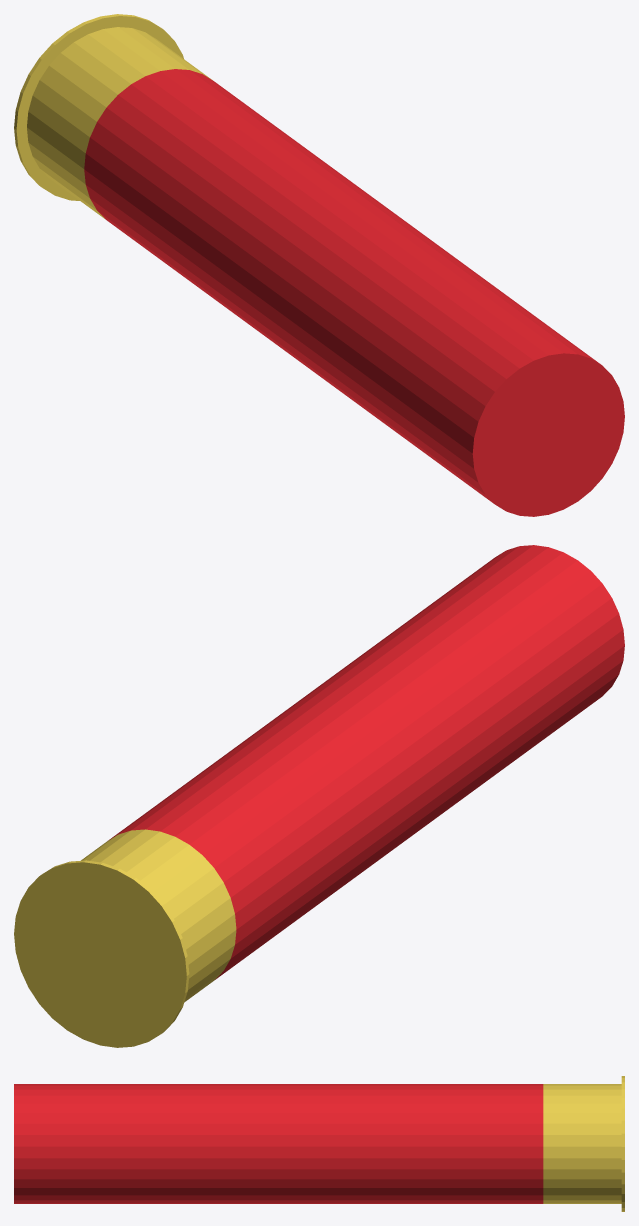
Rendered from Shotgun_shell.glb.
3 renders of one model, top to bottom at view 1: azimuth 30°, elevation 25°; view 2: azimuth 150°, elevation 25°; view 3: azimuth 270°, elevation 25°, orthographic. The views are drawn at different scales.
Parts seen in each view (by area): view 1: Cylinder; view 2: Cylinder; view 3: Cylinder.
Boxes of the visible parts, x1,y1,x2,y2 form: Cylinder: (14,14,624,516); Cylinder: (14,545,624,1047); Cylinder: (14,1076,624,1211).
Bounding box in the file's own units: 0.2904 × 0.2904 × 1.3.
